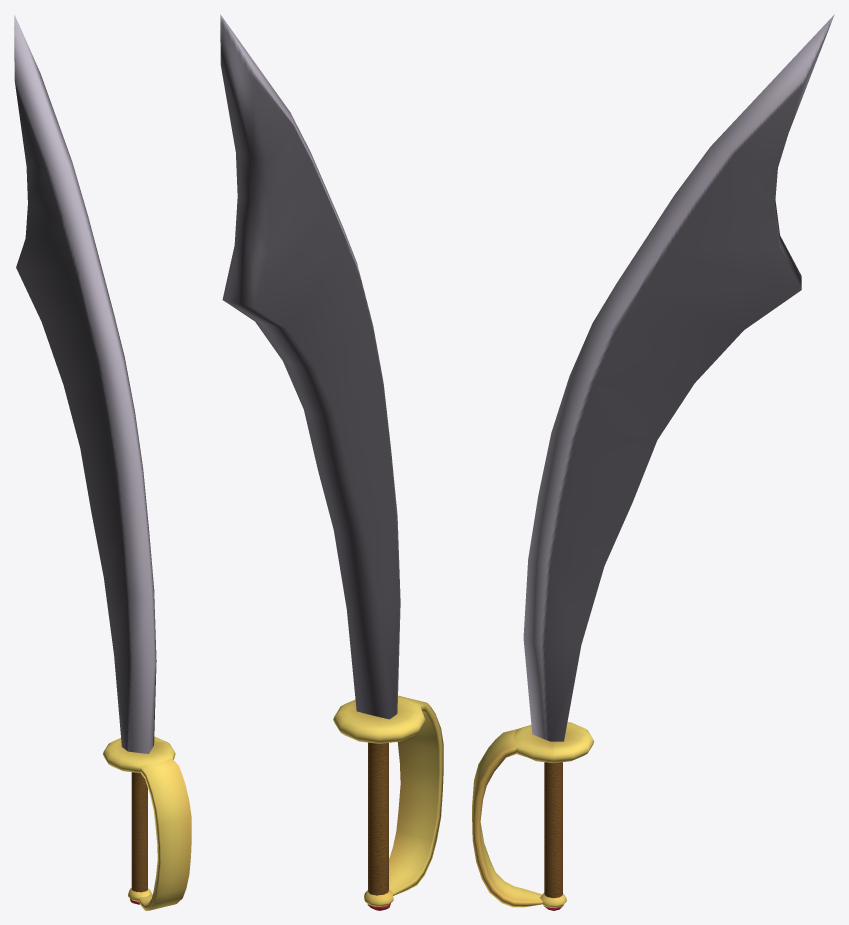
Rendered from md_sword.fbx.
3 views of the same model, side by side, from view 1: azimuth 30°, elevation 25°; view 2: azimuth 150°, elevation 25°; view 3: azimuth 270°, elevation 25° (orthographic). The views are drawn at different scales.
Visible parts, largest first — view 1: md_sword; view 2: md_sword; view 3: md_sword.
Boxes of the visible parts, left/top/right/bottom form: md_sword: left=14, top=15, right=191, bottom=910; md_sword: left=220, top=14, right=443, bottom=910; md_sword: left=472, top=14, right=834, bottom=910.
Bounding box in the file's own units: 8.87 × 107 × 39.18.
